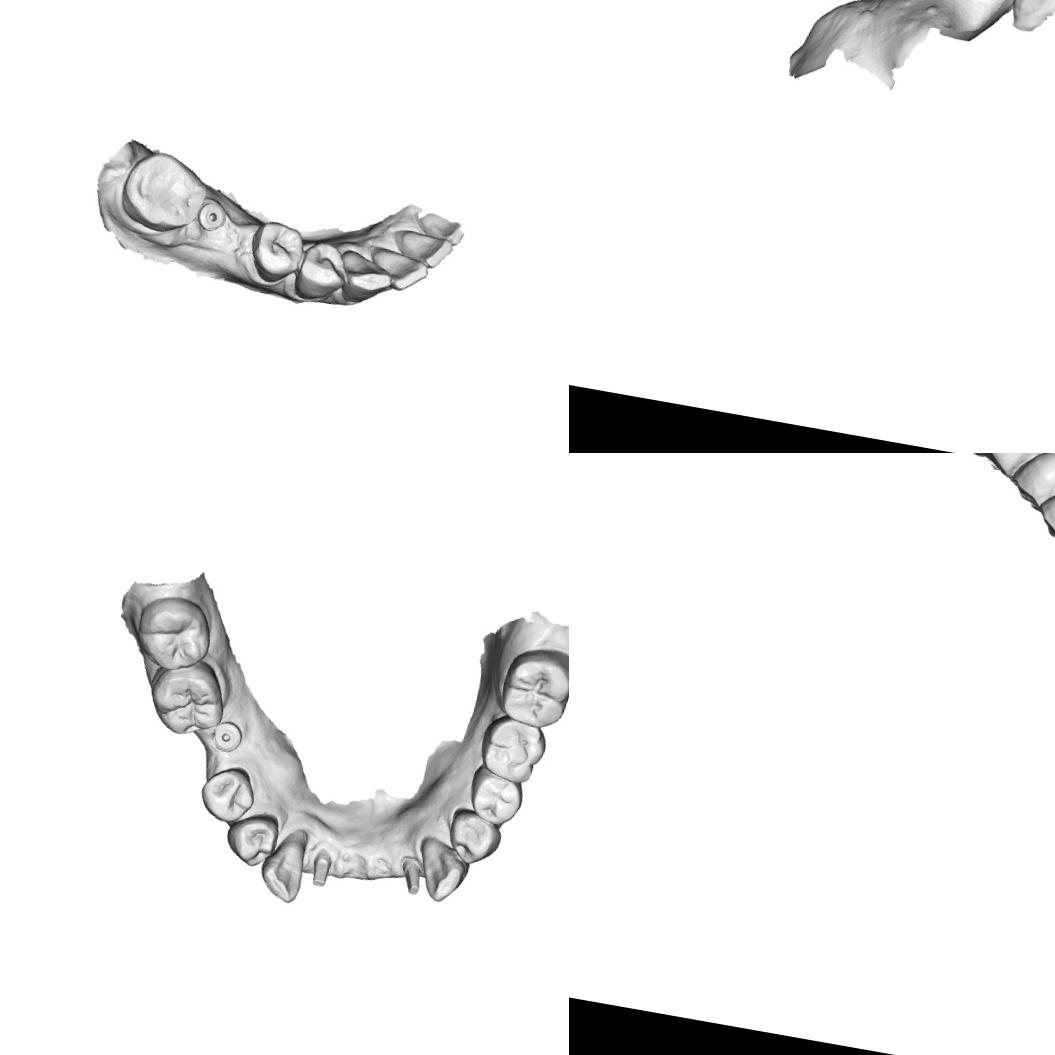abutment: (395, 854, 426, 897), (307, 850, 334, 888)
canine: (409, 832, 474, 906), (254, 822, 311, 904), (333, 247, 396, 310)
implant: (208, 717, 246, 755), (194, 198, 228, 236)
incisor: (364, 243, 432, 296), (394, 225, 455, 274), (414, 210, 466, 248)
molar: (114, 145, 213, 240), (140, 651, 232, 744), (130, 589, 217, 676), (495, 638, 569, 732), (475, 710, 550, 788)
premolar: (243, 216, 310, 290), (290, 234, 354, 306), (195, 758, 259, 826), (464, 762, 527, 828), (442, 804, 505, 868), (220, 805, 282, 870)
